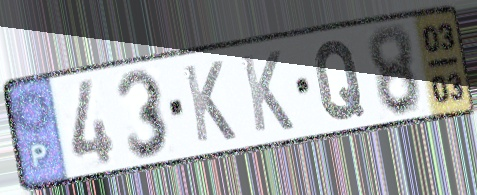3: (115, 66, 172, 161)
4: (67, 74, 118, 170)
8: (366, 22, 424, 119)
K: (180, 58, 239, 146), (238, 48, 297, 136)
Q: (312, 37, 367, 123)
